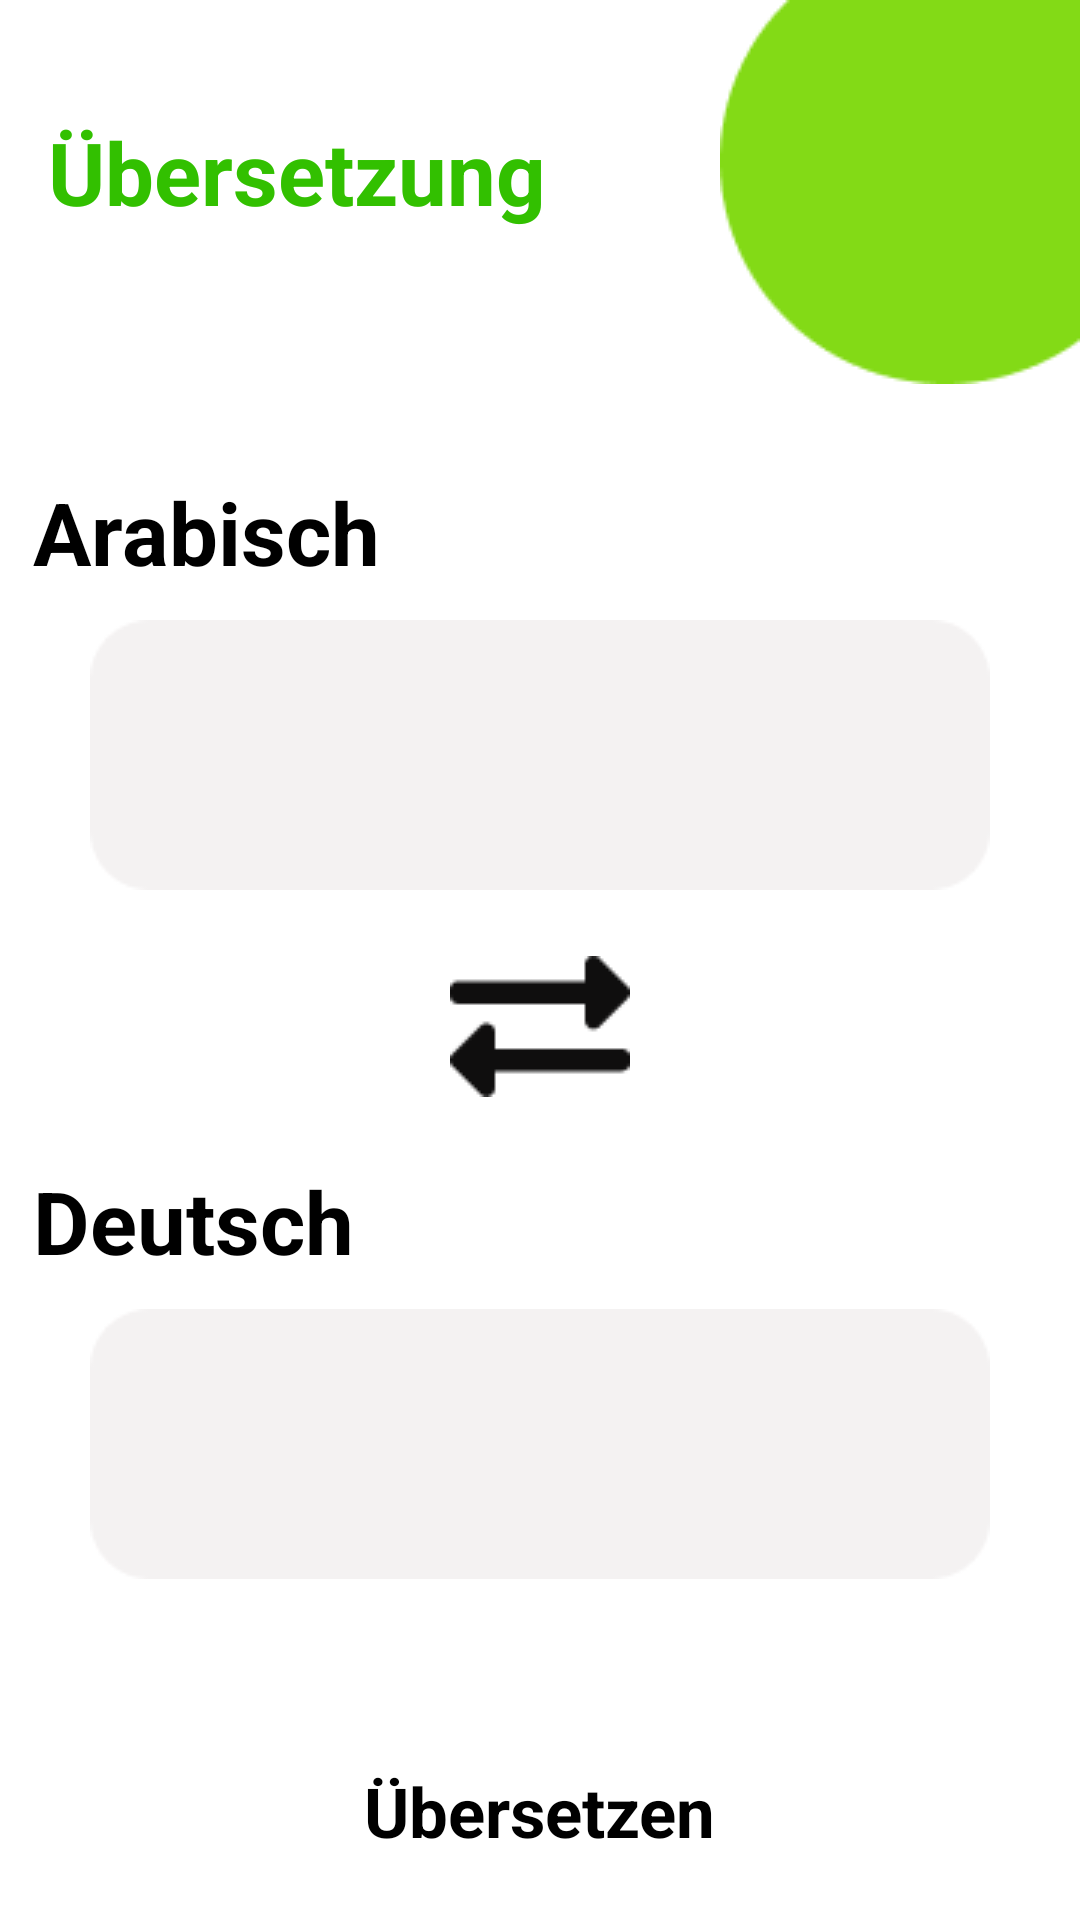

Point at icon controls on the screen. Image size 1080x1920, points as (x=x, y=y).
exchage: (x=540, y=1026)
